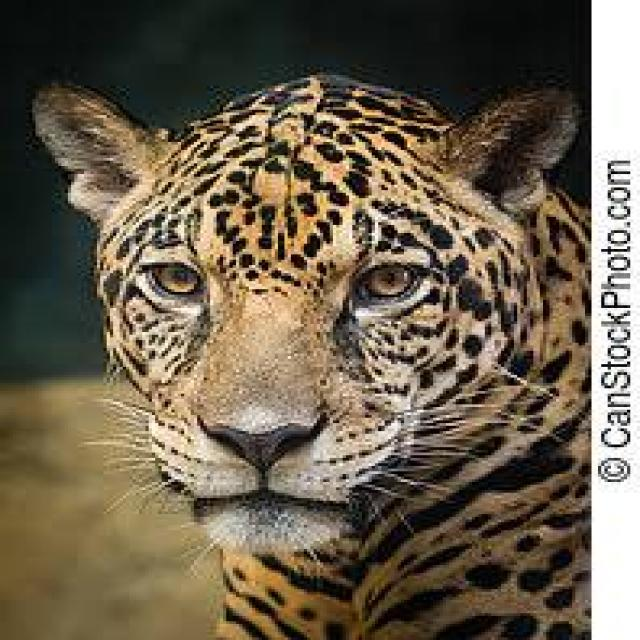Jaguar: (36, 75, 585, 640)
